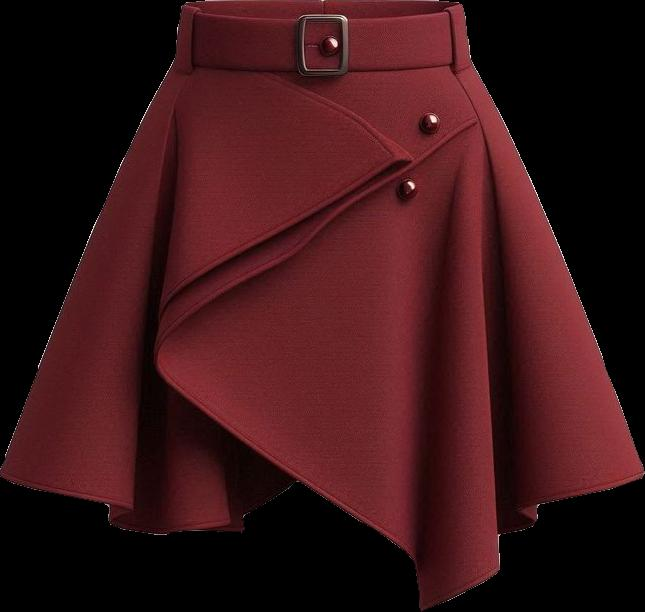Hemline: (157, 120, 644, 611), (0, 159, 398, 534)
Waistline: (180, 2, 461, 26), (173, 60, 470, 81)
